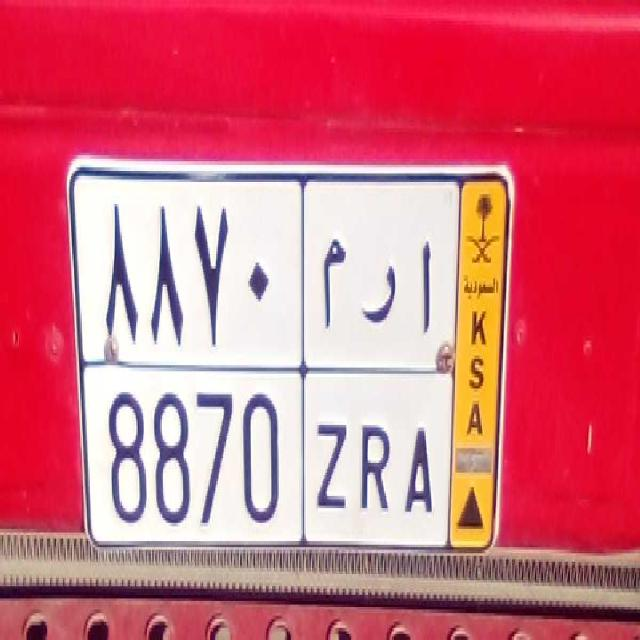license_plate: (98, 372, 444, 564)
